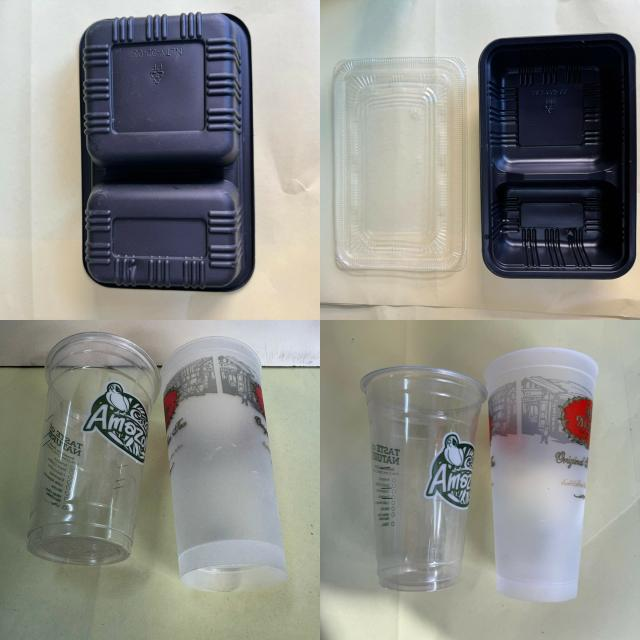Single-Use-Plastic: (80, 12, 254, 290), (479, 34, 636, 278), (161, 338, 288, 591), (28, 332, 160, 565), (485, 348, 599, 602), (361, 366, 486, 591), (334, 58, 466, 271)
